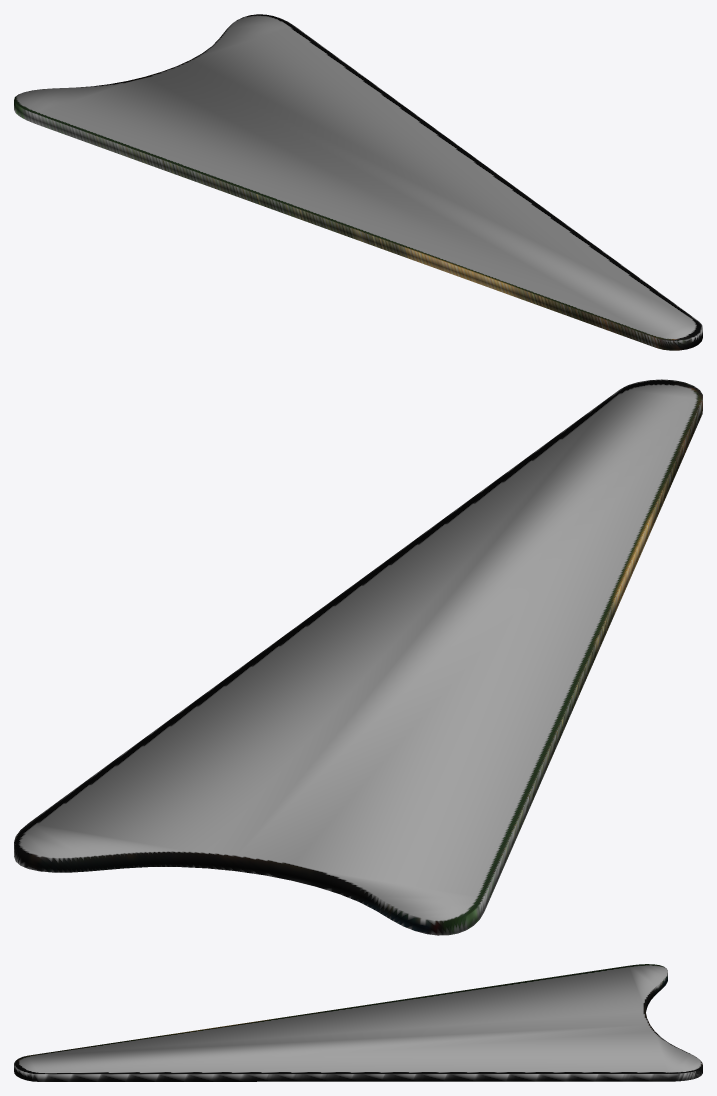
3 views of the same model, one above another, from view 1: azimuth 30°, elevation 25°; view 2: azimuth 150°, elevation 25°; view 3: azimuth 270°, elevation 25° (orthographic). The views are drawn at different scales.
Visible parts, largest first — view 1: layer2a; view 2: layer2a; view 3: layer2a.
Part boxes in pixels (box(x1,y1,x2,y2)): layer2a: box(14, 14, 702, 350); layer2a: box(14, 379, 702, 935); layer2a: box(14, 964, 702, 1081).
Size of the model in its own units: 3.74 by 0.1189 by 9.88.
Materials: 1 (1 with a texture image).
